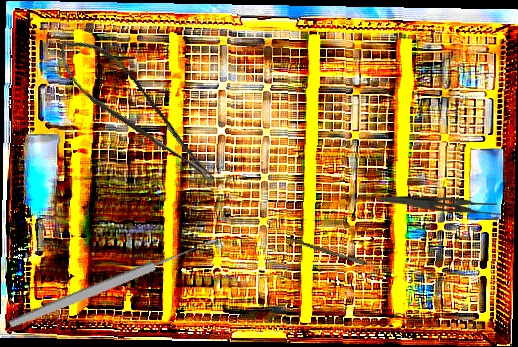Dressing Forceps: (379, 195, 505, 218)
Micro Scissor: (47, 20, 221, 209)
Surgical Spoon: (6, 234, 221, 331), (288, 237, 394, 274)
